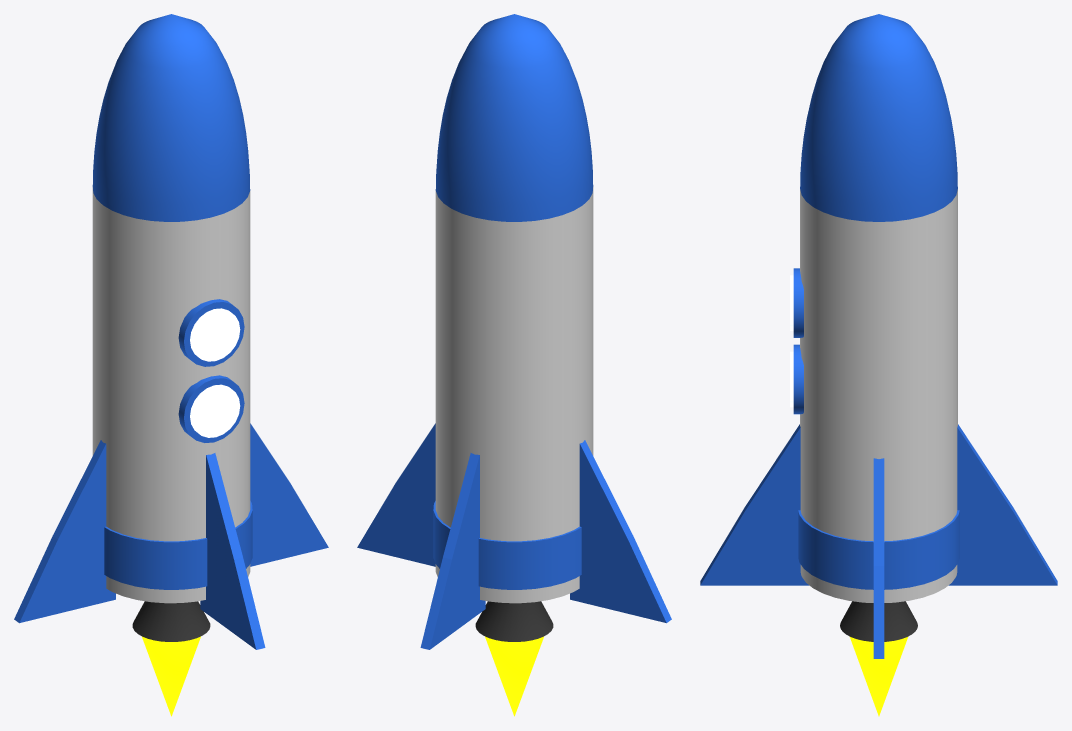
The model's file is Rocket_05_SkyBlue.fbx.
3 renders of one model, left to right at view 1: azimuth 30°, elevation 25°; view 2: azimuth 150°, elevation 25°; view 3: azimuth 270°, elevation 25°, orthographic.
Parts seen in each view (by area): view 1: R05_Body, R05_Nose, R05_Fin_2, R05_Fin_3, R05_Band_1, R05_Fin_4, R05_Nozzle_1, R05_Flame_1, R05_Window_2, R05_Window_1, R05_WindowFrame_1, R05_WindowFrame_2; view 2: R05_Body, R05_Nose, R05_Fin_2, R05_Fin_1, R05_Band_1, R05_Fin_4, R05_Nozzle_1, R05_Flame_1; view 3: R05_Body, R05_Nose, R05_Fin_1, R05_Fin_3, R05_Band_1, R05_Fin_4, R05_Nozzle_1, R05_Flame_1, R05_WindowFrame_2, R05_WindowFrame_1.
Part boxes in pixels (bbox=[...]): R05_Body: bbox=[92, 187, 250, 603]; R05_Nose: bbox=[92, 14, 250, 221]; R05_Fin_2: bbox=[14, 440, 115, 623]; R05_Fin_3: bbox=[200, 453, 265, 649]; R05_Band_1: bbox=[104, 501, 252, 589]; R05_Fin_4: bbox=[250, 423, 328, 566]; R05_Nozzle_1: bbox=[132, 601, 210, 641]; R05_Flame_1: bbox=[142, 636, 200, 716]; R05_Window_2: bbox=[190, 384, 240, 437]; R05_Window_1: bbox=[190, 308, 240, 361]; R05_WindowFrame_1: bbox=[178, 299, 244, 366]; R05_WindowFrame_2: bbox=[178, 375, 244, 442]; R05_Body: bbox=[435, 187, 593, 603]; R05_Nose: bbox=[435, 14, 593, 221]; R05_Fin_2: bbox=[570, 440, 671, 623]; R05_Fin_1: bbox=[420, 453, 485, 649]; R05_Band_1: bbox=[433, 501, 581, 589]; R05_Fin_4: bbox=[357, 423, 435, 566]; R05_Nozzle_1: bbox=[475, 601, 553, 641]; R05_Flame_1: bbox=[485, 636, 543, 716]; R05_Body: bbox=[800, 189, 957, 602]; R05_Nose: bbox=[800, 14, 957, 221]; R05_Fin_1: bbox=[948, 424, 1057, 585]; R05_Fin_3: bbox=[700, 424, 809, 585]; R05_Band_1: bbox=[798, 510, 959, 589]; R05_Fin_4: bbox=[873, 458, 884, 658]; R05_Nozzle_1: bbox=[840, 601, 917, 641]; R05_Flame_1: bbox=[850, 637, 907, 716]; R05_WindowFrame_2: bbox=[793, 344, 803, 414]; R05_WindowFrame_1: bbox=[793, 268, 803, 337].
Bounding box in the file's own units: 4.08 × 8.85 × 4.08.
